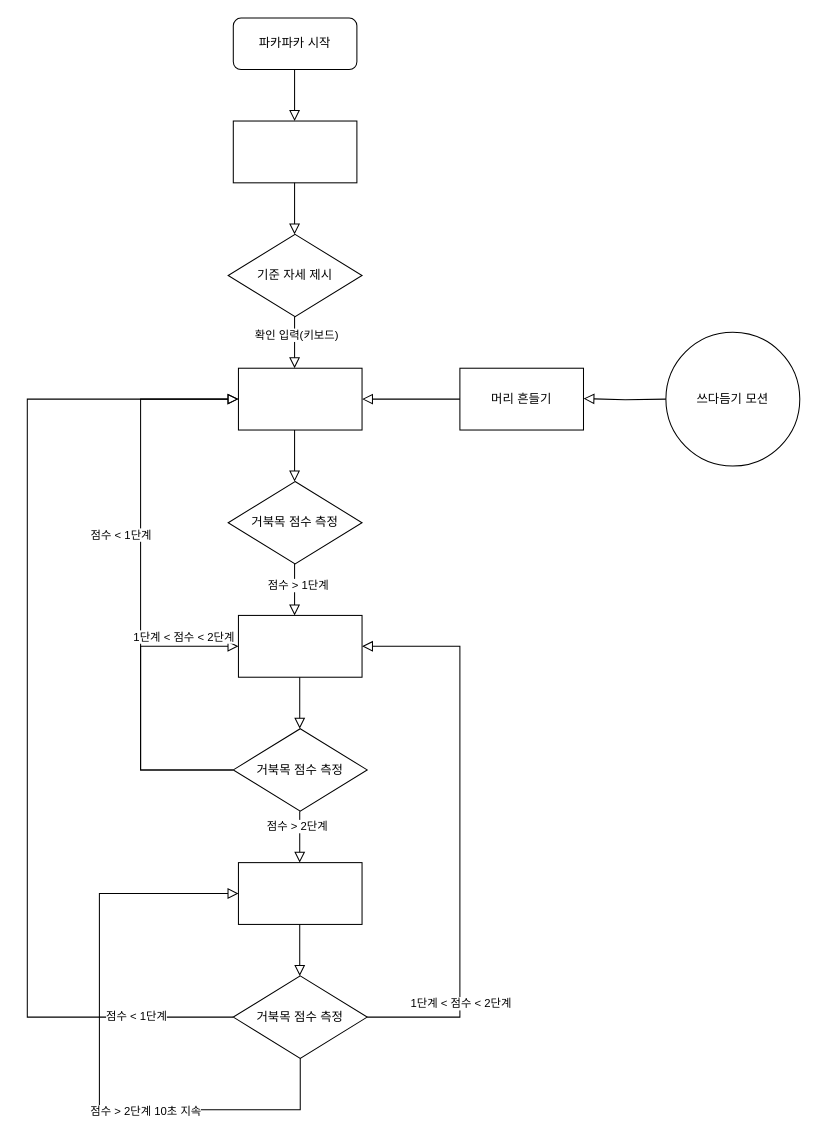
The diagram is 818 pixels wide and 1138 high, and some of its shapes have lost their labels. The box of each missing label's shape, as (x1, y1, x2, y2) in pixels:
고개 숙임 (180) 파카파카 교정 알림 5초 딜레이: (237, 862, 362, 924)
고개 숙임 (90) 5초 딜레이: (237, 614, 362, 677)
기본 위치(0): (237, 367, 362, 430)
최초 상태: (232, 120, 357, 183)
